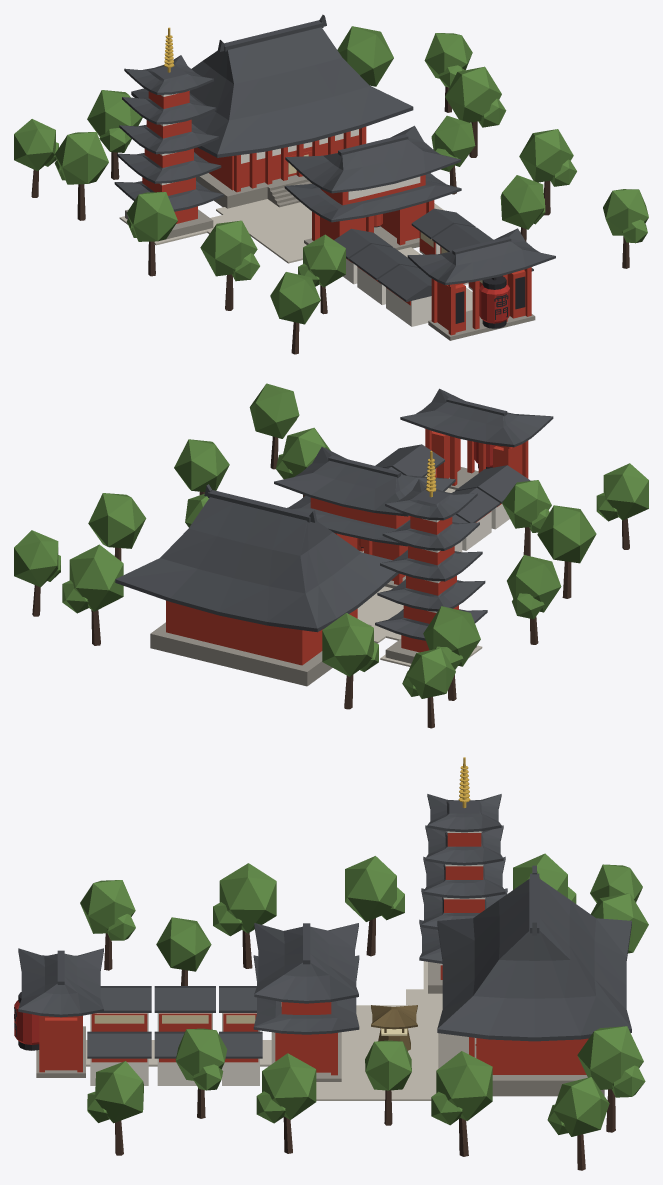
File: senso-ji.glb
3 views of the same model, one above another, from view 1: azimuth 30°, elevation 25°; view 2: azimuth 150°, elevation 25°; view 3: azimuth 270°, elevation 25° (orthographic). The views are drawn at different scales.
Visible parts, largest first — view 1: sensoji_roof, sensoji_foliage, sensoji_red, sensoji_pave, sensoji_stone, sensoji_white, sensoji_bark, sensoji_black, sensoji_lantern; view 2: sensoji_roof, sensoji_foliage, sensoji_red, sensoji_stone, sensoji_bark, sensoji_pave, sensoji_white; view 3: sensoji_roof, sensoji_foliage, sensoji_red, sensoji_pave, sensoji_stone, sensoji_bark, sensoji_white, sensoji_bronze, sensoji_lantern.
Part boxes in pixels (x1,y1,x2,y2): sensoji_roof: (114, 14, 555, 301); sensoji_foliage: (14, 26, 648, 324); sensoji_red: (142, 91, 531, 335); sensoji_pave: (119, 199, 472, 311); sensoji_stone: (125, 173, 535, 340); sensoji_white: (160, 93, 472, 326); sensoji_bark: (31, 86, 629, 354); sensoji_black: (374, 225, 525, 328); sensoji_lantern: (479, 284, 509, 323); sensoji_roof: (115, 388, 553, 640); sensoji_foliage: (14, 383, 648, 698); sensoji_red: (166, 428, 528, 665); sensoji_stone: (150, 467, 478, 686); sensoji_bark: (32, 436, 629, 728); sensoji_pave: (357, 488, 482, 666); sensoji_white: (422, 504, 509, 612); sensoji_roof: (18, 794, 631, 1058); sensoji_foliage: (80, 853, 648, 1136); sensoji_red: (39, 833, 588, 1075); sensoji_pave: (86, 961, 442, 1100); sensoji_stone: (36, 962, 604, 1096); sensoji_bark: (104, 918, 615, 1170); sensoji_white: (90, 831, 485, 1085); sensoji_bronze: (371, 1005, 417, 1051); sensoji_lantern: (14, 1000, 39, 1044).
Size of the model in its own units: 19.59 by 8.67 by 21.72.
